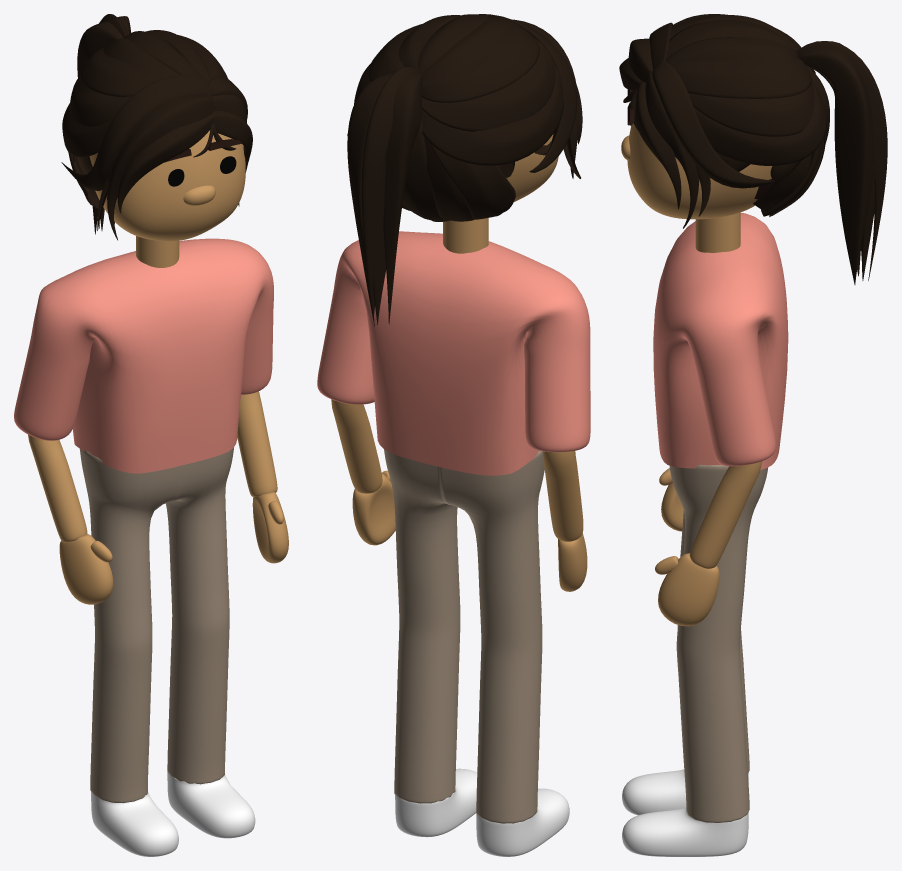
Rendered from hairBdiff.fbx.
3 views of the same model, side by side, from view 1: azimuth 30°, elevation 25°; view 2: azimuth 150°, elevation 25°; view 3: azimuth 270°, elevation 25° (orthographic). The views are drawn at different scales.
Parts seen in each view (by area): view 1: mixed-girl-shirt, black-girl-pants.001, Hair, mixed-girl-head, mixed-girl-shoes, mixed-girl-arms, mixed-girl-hands, mixed-girl-neck; view 2: mixed-girl-shirt, black-girl-pants.001, Hair, mixed-girl-shoes, mixed-girl-arms, mixed-girl-hands, mixed-girl-neck, mixed-girl-head; view 3: Hair, mixed-girl-shirt, black-girl-pants.001, mixed-girl-shoes, mixed-girl-head, mixed-girl-hands, mixed-girl-arms, mixed-girl-neck.
Part boxes in pixels (<box>): mixed-girl-shirt: <box>14,238,273,473</box>; black-girl-pants.001: <box>79,447,233,803</box>; Hair: <box>61,14,252,240</box>; mixed-girl-head: <box>89,130,245,241</box>; mixed-girl-shoes: <box>91,771,255,856</box>; mixed-girl-arms: <box>28,391,277,542</box>; mixed-girl-hands: <box>59,492,288,604</box>; mixed-girl-neck: <box>136,236,179,267</box>; mixed-girl-shirt: <box>317,231,590,475</box>; black-girl-pants.001: <box>384,449,544,823</box>; Hair: <box>347,14,582,326</box>; mixed-girl-shoes: <box>395,768,569,856</box>; mixed-girl-arms: <box>331,399,583,541</box>; mixed-girl-hands: <box>352,470,587,591</box>; mixed-girl-neck: <box>443,218,488,253</box>; mixed-girl-head: <box>506,134,558,201</box>; Hair: <box>619,14,887,284</box>; mixed-girl-shirt: <box>653,213,788,469</box>; black-girl-pants.001: <box>669,465,768,822</box>; mixed-girl-shoes: <box>622,769,748,856</box>; mixed-girl-head: <box>627,123,775,219</box>; mixed-girl-hands: <box>655,468,719,626</box>; mixed-girl-arms: <box>689,461,761,568</box>; mixed-girl-neck: <box>695,212,740,252</box>.
Bounding box in the file's own units: 206 × 609 × 184.
